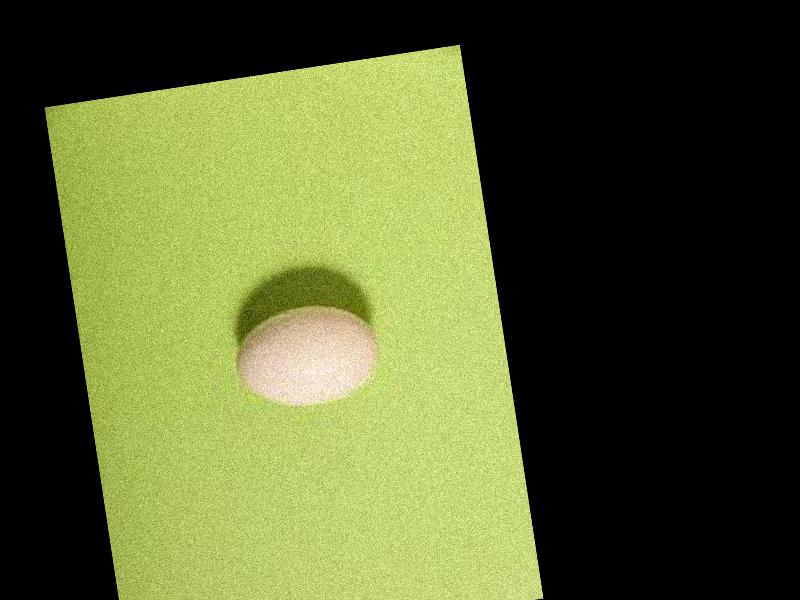Eggs: (226, 296, 384, 413)
